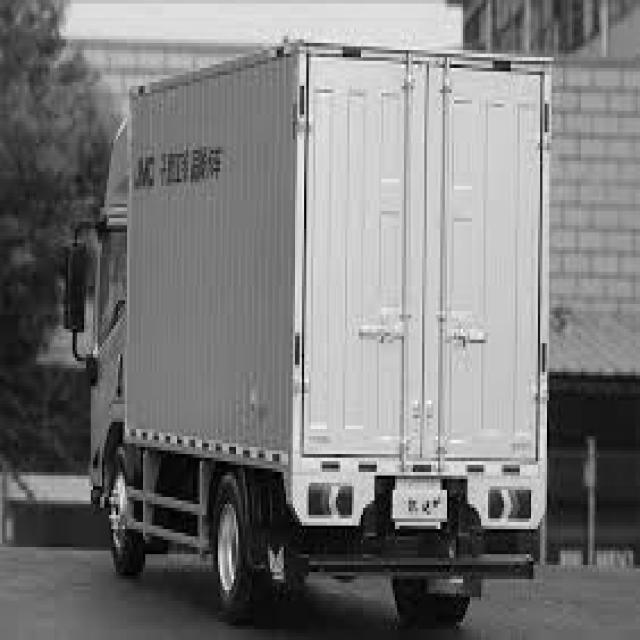truck: (57, 21, 564, 640)
